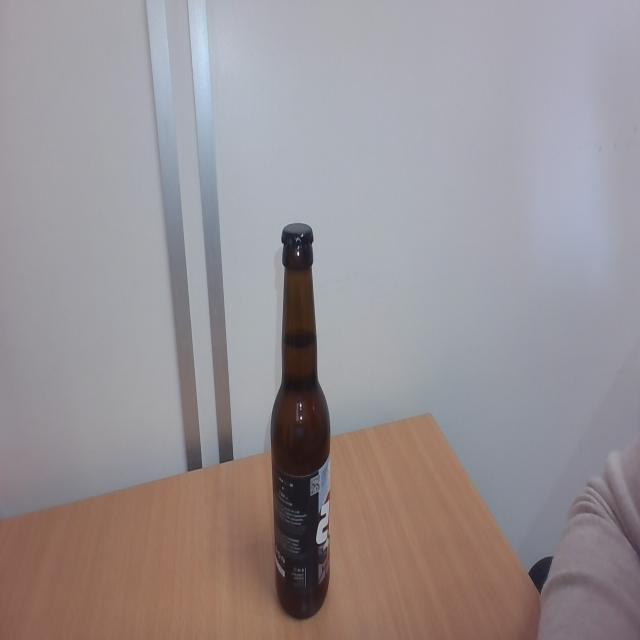Bottle: (270, 252, 332, 620)
Cap: (280, 222, 316, 250)
Label: (274, 459, 330, 586)
